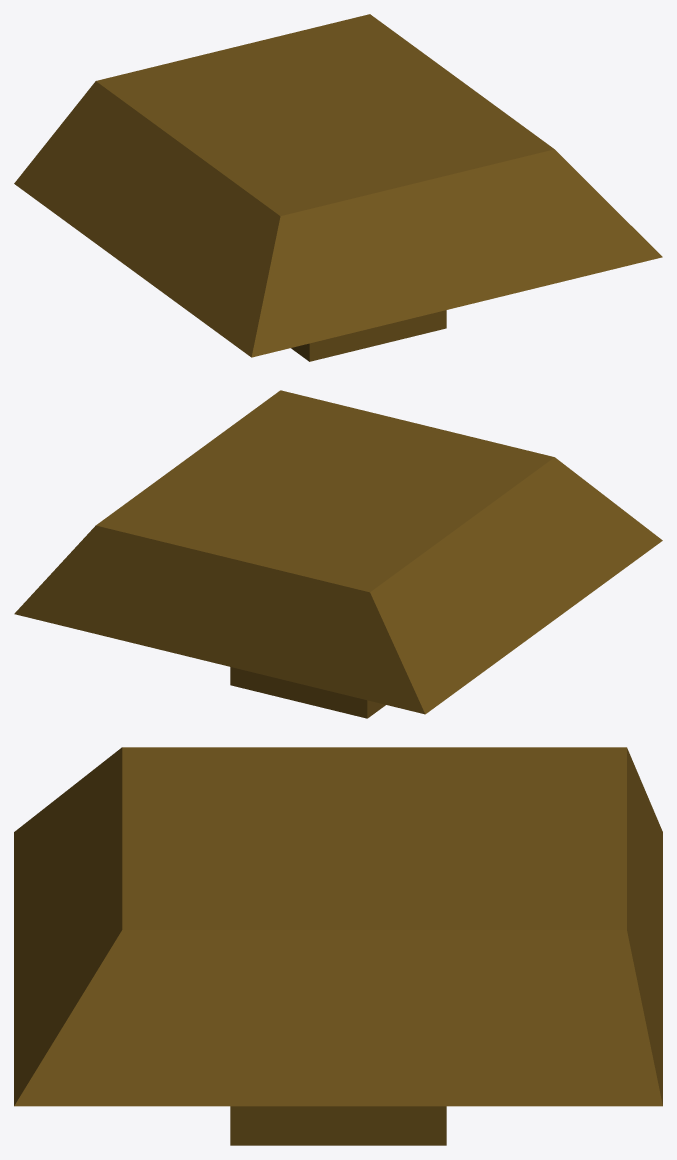
Rendered from original-38.obj.
3 renders of one model, top to bottom at view 1: azimuth 30°, elevation 25°; view 2: azimuth 150°, elevation 25°; view 3: azimuth 270°, elevation 25°, orthographic. The views are drawn at different scales.
Visible parts, largest first — view 1: KB_-_Key_1_34/KB_-_Key_1/mesh2/mesh2-geometry#mesh2-geometry; view 2: KB_-_Key_1_34/KB_-_Key_1/mesh2/mesh2-geometry#mesh2-geometry; view 3: KB_-_Key_1_34/KB_-_Key_1/mesh2/mesh2-geometry#mesh2-geometry.
Part boxes in pixels (<box>): KB_-_Key_1_34/KB_-_Key_1/mesh2/mesh2-geometry#mesh2-geometry: <box>14,14,662,361</box>; KB_-_Key_1_34/KB_-_Key_1/mesh2/mesh2-geometry#mesh2-geometry: <box>14,390,662,718</box>; KB_-_Key_1_34/KB_-_Key_1/mesh2/mesh2-geometry#mesh2-geometry: <box>14,747,662,1145</box>.
Size of the model in its own units: 0.0727 by 0.0323 by 0.0727.
